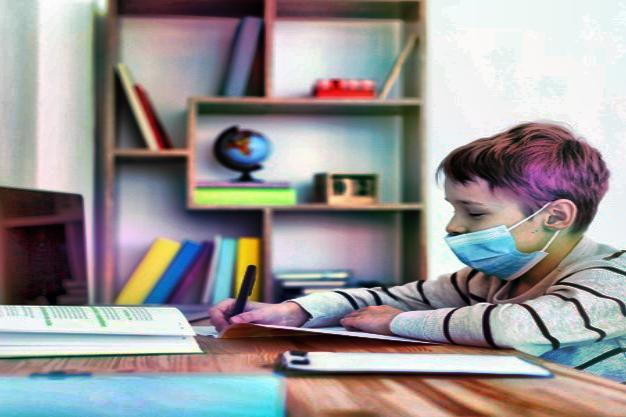mask_weared_incorrect: (437, 119, 605, 283)
